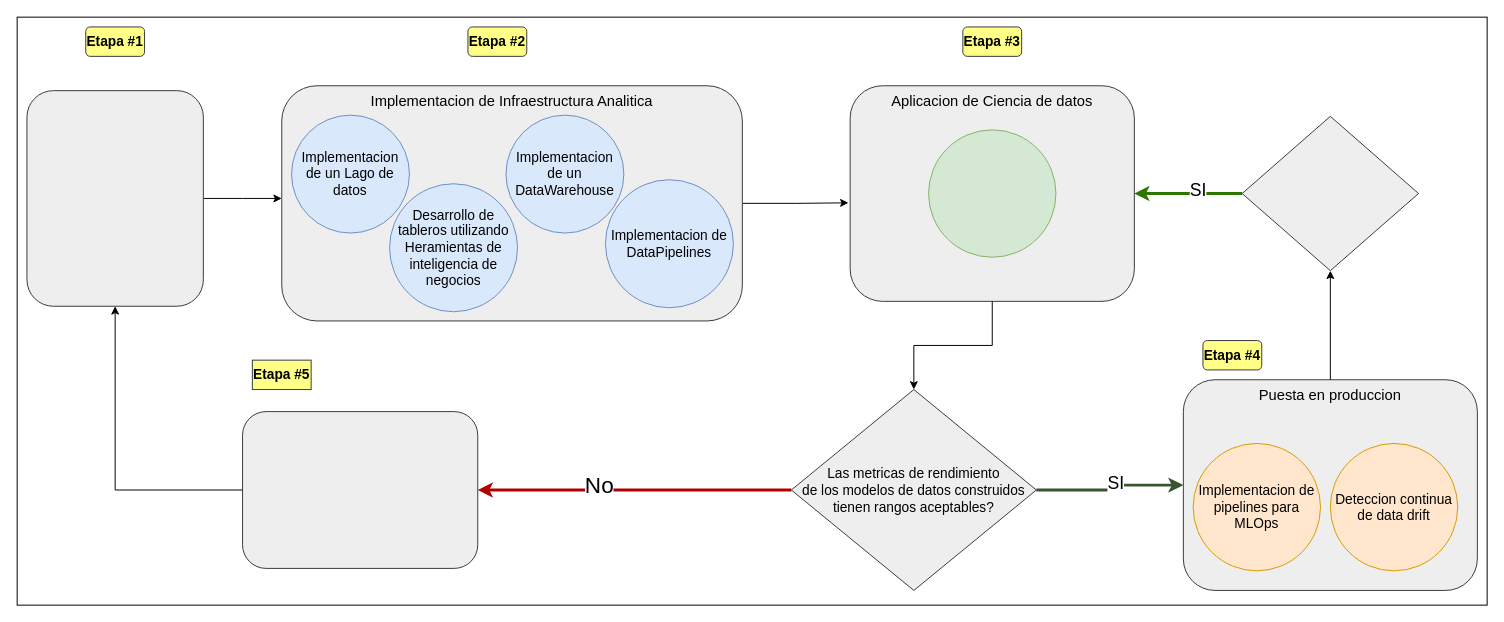
The diagram is 1504 pixels wide and 622 high, and some of its shapes have lost their labels. Each missing label, with the centre of its shape:
Definición de objetivos analiticos y Exploración de datos: (x=114, y=198)
Desarrollo de modelo de datos.: (x=992, y=193)
Existe Data Drift?: (x=1330, y=193)
Recopilacion de datos necesarios para el caso de uso.: (x=360, y=489)
